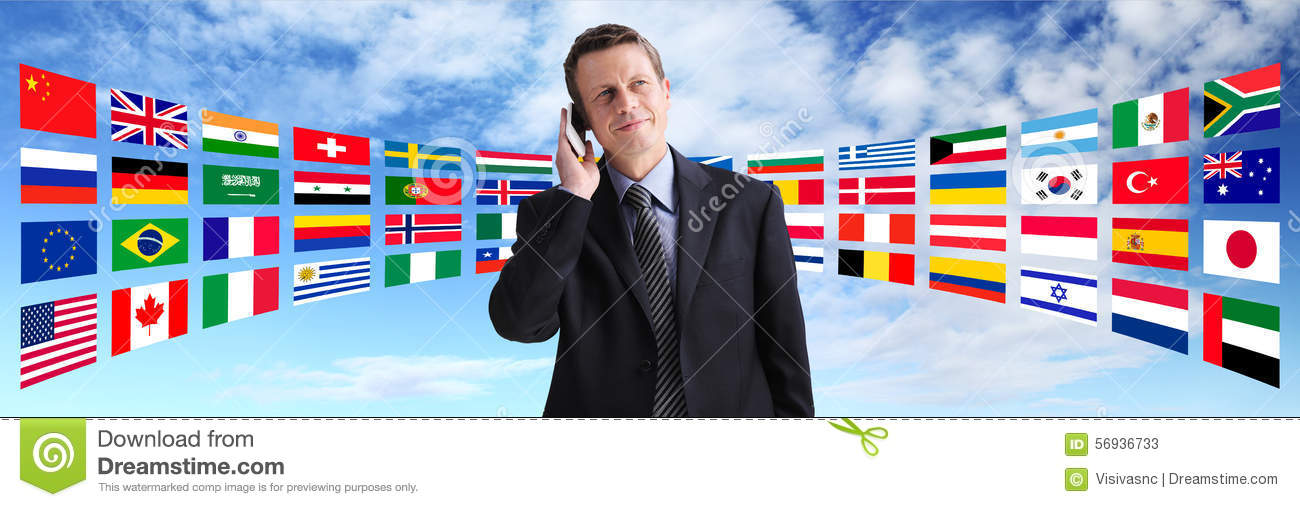phone: (568, 99, 585, 159)
talk: (555, 68, 659, 193)
